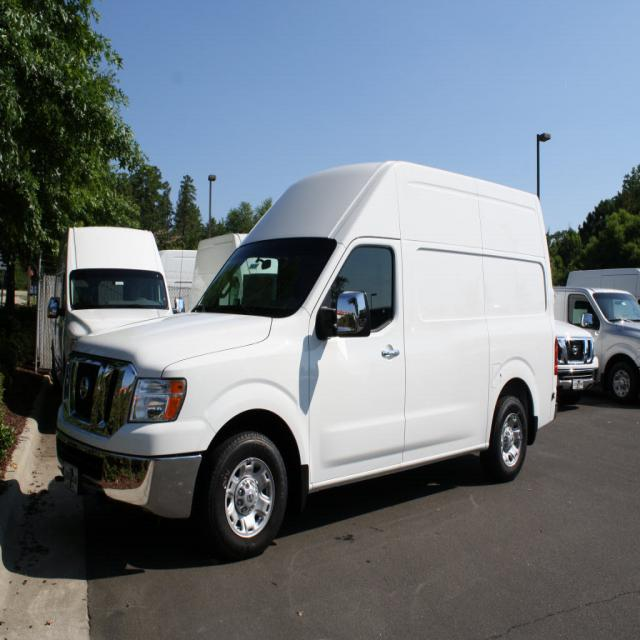microbus: (80, 163, 560, 554), (46, 209, 181, 417)
